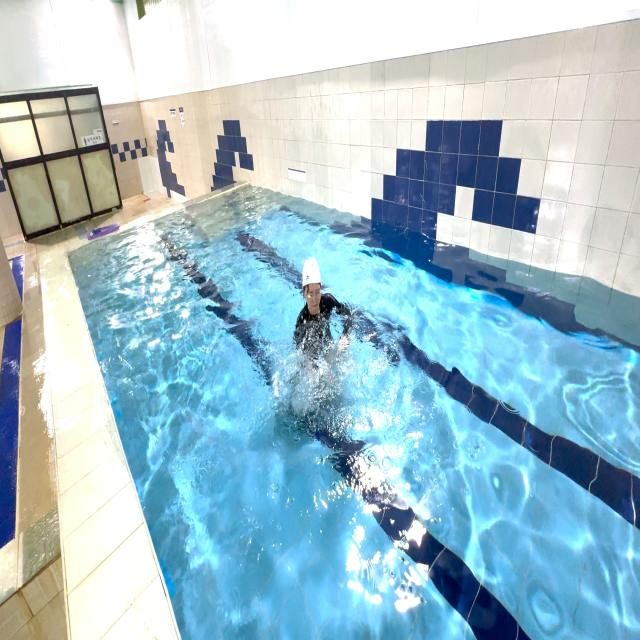Drowning: (286, 254, 354, 374)
